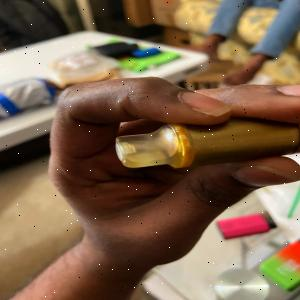Golden-E-Ciggirate: (111, 105, 300, 179)
